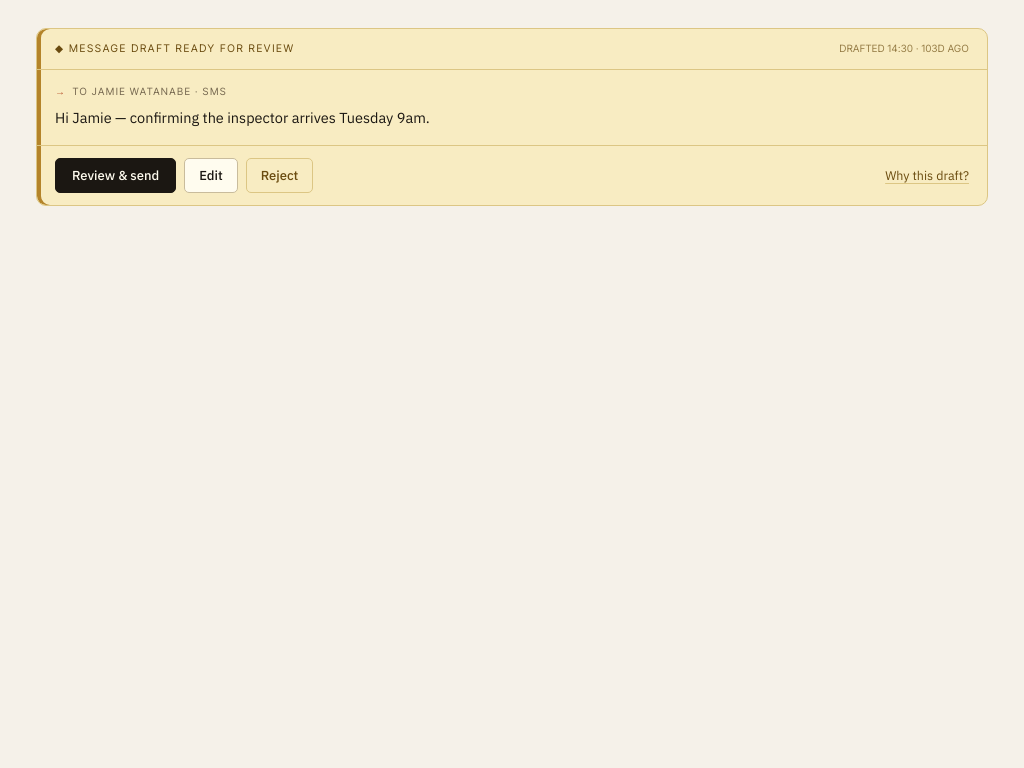
DraftHeroCard › approve action (send-confirm gate) › should open the send-confirm dialog — NOT send — when Review & send is clicked
The width and height of the screenshot is (1024, 768).
Click the button with test id "pending-draft-approve" at coordinates (116, 175), box [55,158,176,193]
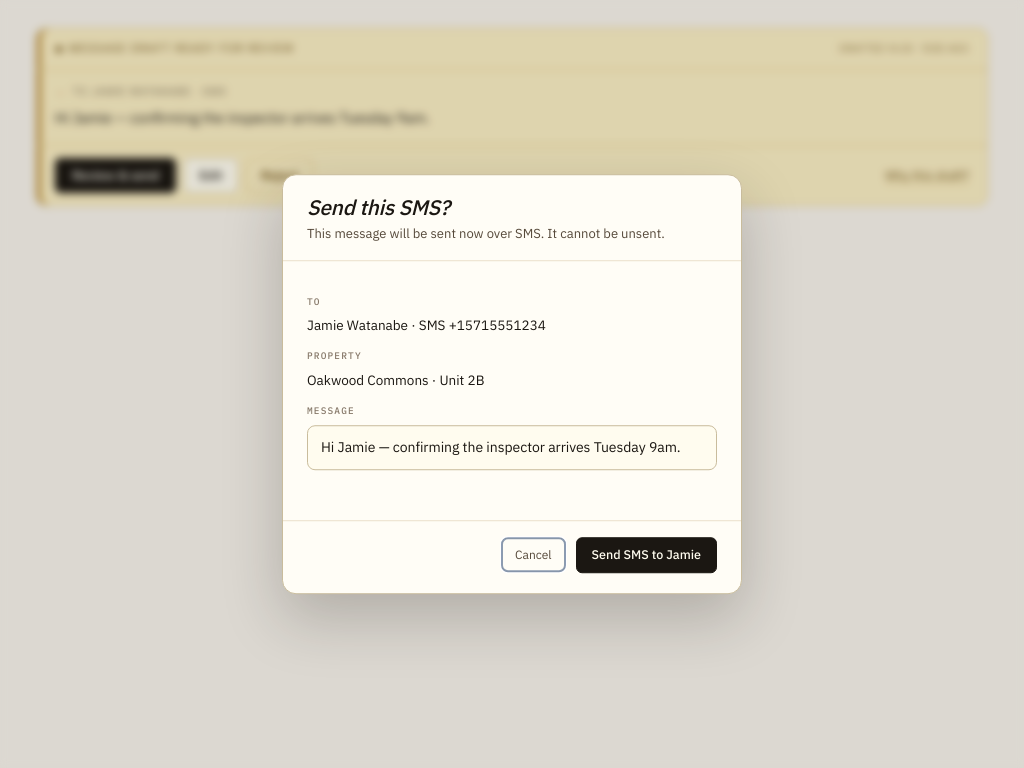
Now the dialog with test id "send-confirm-dialog" is shown, box [282,174,742,594]
